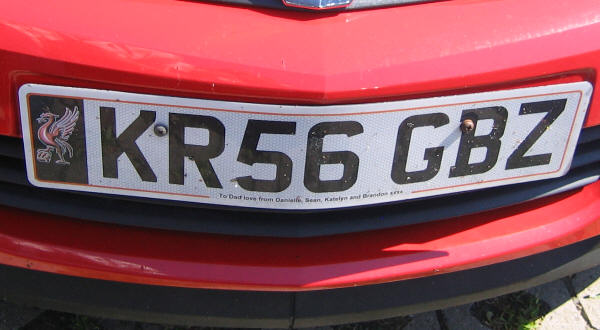license_plate: (17, 82, 593, 211)
